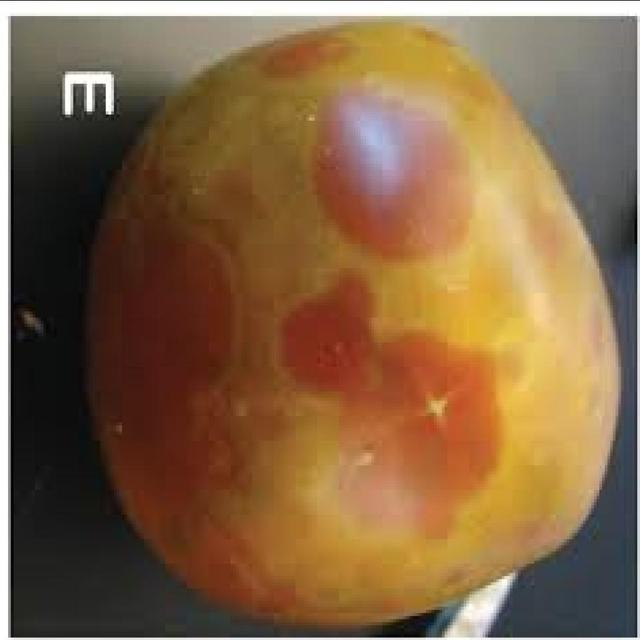Spotted wilt Virus Fruit: (58, 209, 307, 628)
